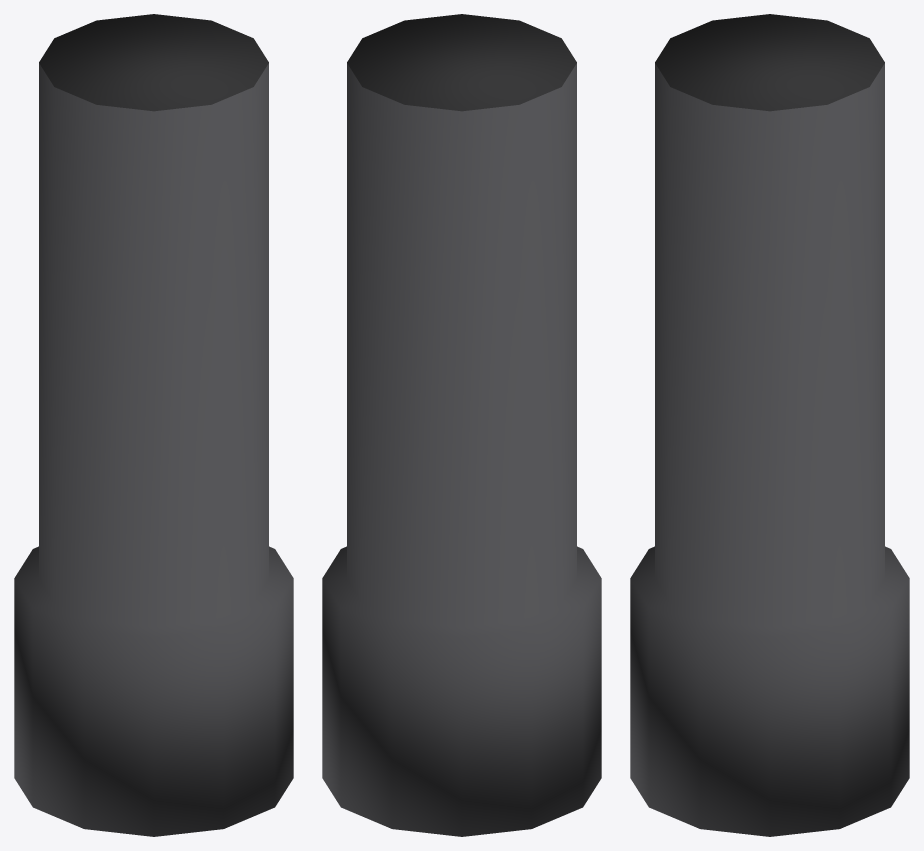
File: Furnace 3 Pipe.glb
3 views of the same model, side by side, from view 1: azimuth 30°, elevation 25°; view 2: azimuth 150°, elevation 25°; view 3: azimuth 270°, elevation 25° (orthographic).
Parts seen in each view (by area): view 1: Furnace 3 Pipe; view 2: Furnace 3 Pipe; view 3: Furnace 3 Pipe.
Part boxes in pixels (box(x1,y1,x2,y2)): Furnace 3 Pipe: box(14, 14, 293, 836); Furnace 3 Pipe: box(322, 14, 601, 836); Furnace 3 Pipe: box(630, 14, 909, 836).
Size of what is drawn, in the model's own units: 0.4281 by 1.21 by 0.4281.
1 material, 1 textured.
